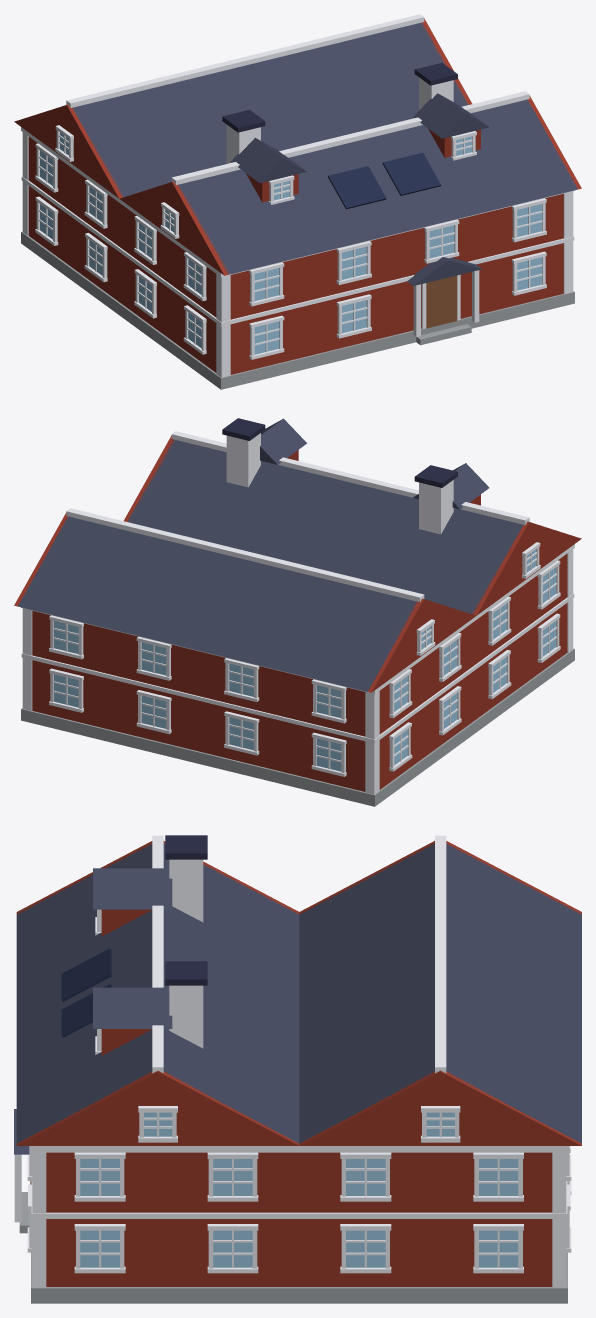
The model's file is house-2x2-2f-stuga-a-solar.glb.
The picture shows the model from 3 angles, top to bottom: view 1: azimuth 30°, elevation 25°; view 2: azimuth 150°, elevation 25°; view 3: azimuth 270°, elevation 25°; orthographic projection. The views are drawn at different scales.
Parts seen in each view (by area): view 1: house-2x2-2f-stuga-a-solar; view 2: house-2x2-2f-stuga-a-solar; view 3: house-2x2-2f-stuga-a-solar.
Part boxes in pixels (x1,y1,x2,y2): house-2x2-2f-stuga-a-solar: (14,14,581,389); house-2x2-2f-stuga-a-solar: (14,418,581,806); house-2x2-2f-stuga-a-solar: (14,835,581,1303).
Bounding box in the file's own units: 2 × 1.1 × 2.01.
Materials: 1 (1 with a texture image).
